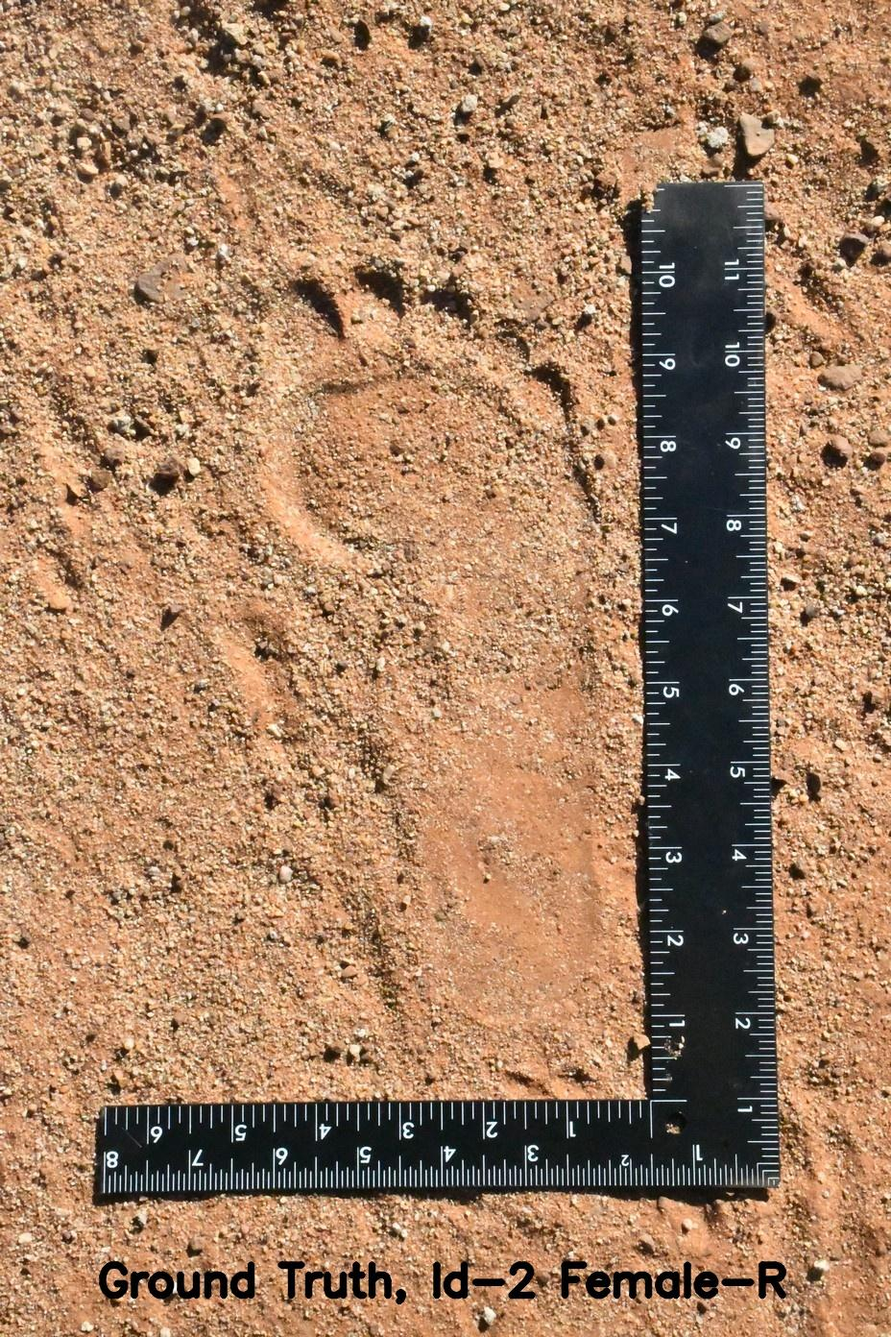human_footprint: (228, 267, 618, 1085)
